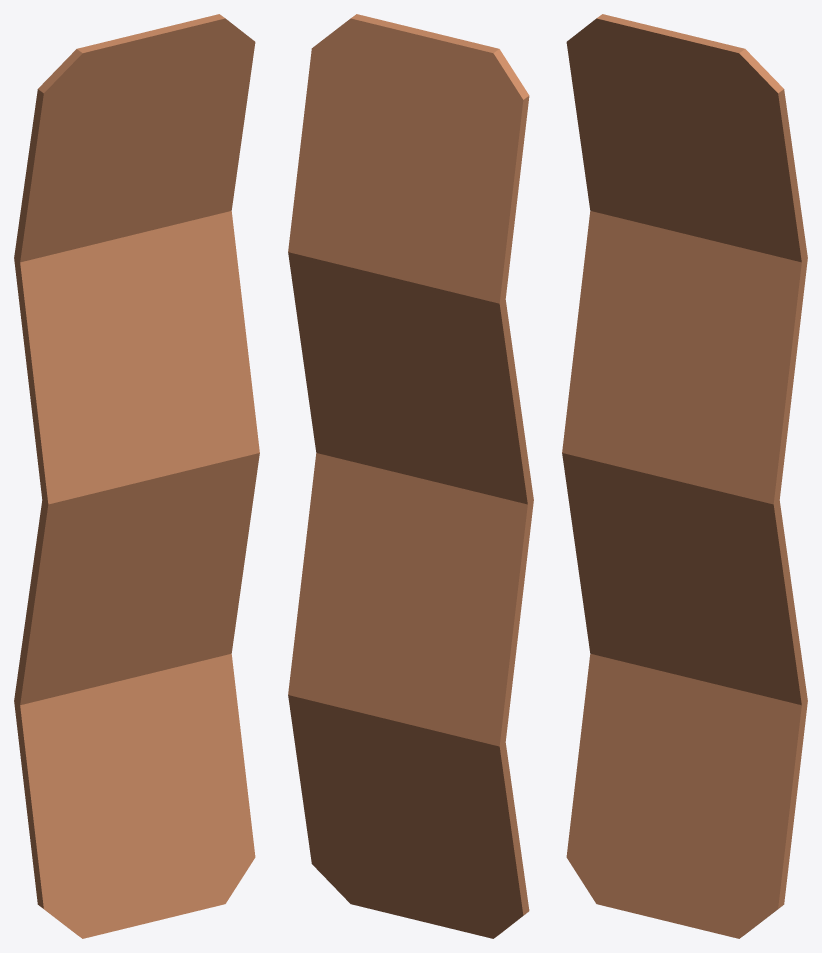
File: CookedBacon.obj
3 renders of one model, left to right at view 1: azimuth 30°, elevation 25°; view 2: azimuth 150°, elevation 25°; view 3: azimuth 330°, elevation 25°, orthographic.
Visible parts, largest first — view 1: bacon.003; view 2: bacon.003; view 3: bacon.003.
Boxes of the visible parts, x1,y1,x2,y2 form: bacon.003: (14, 14, 259, 938); bacon.003: (288, 14, 533, 938); bacon.003: (562, 14, 807, 938).
Size of the model in its own units: 0.065 by 0.26 by 0.0182.
